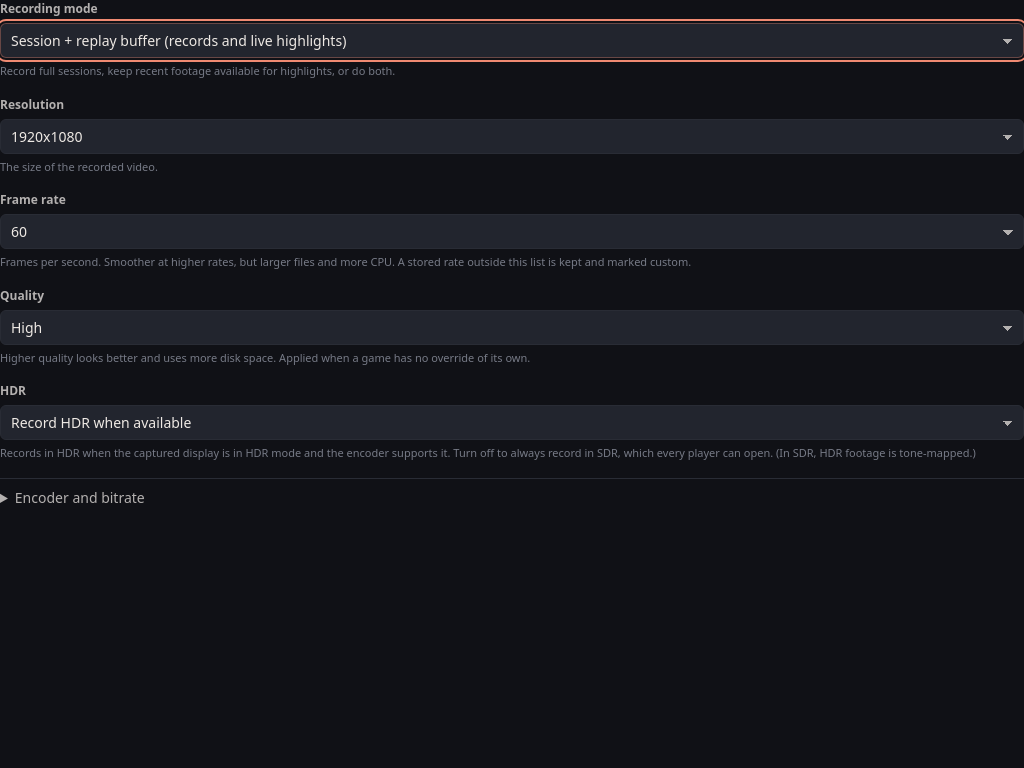
recording mode change › uses a modal focus trap, Escape cancellation, and non-submit action buttons
The width and height of the screenshot is (1024, 768).
Select "Session (one continuous recording)" in the dropdown labelled "Recording mode" at {"x": 512, "y": 40}, box x1=0 y1=23 x2=1023 y2=58
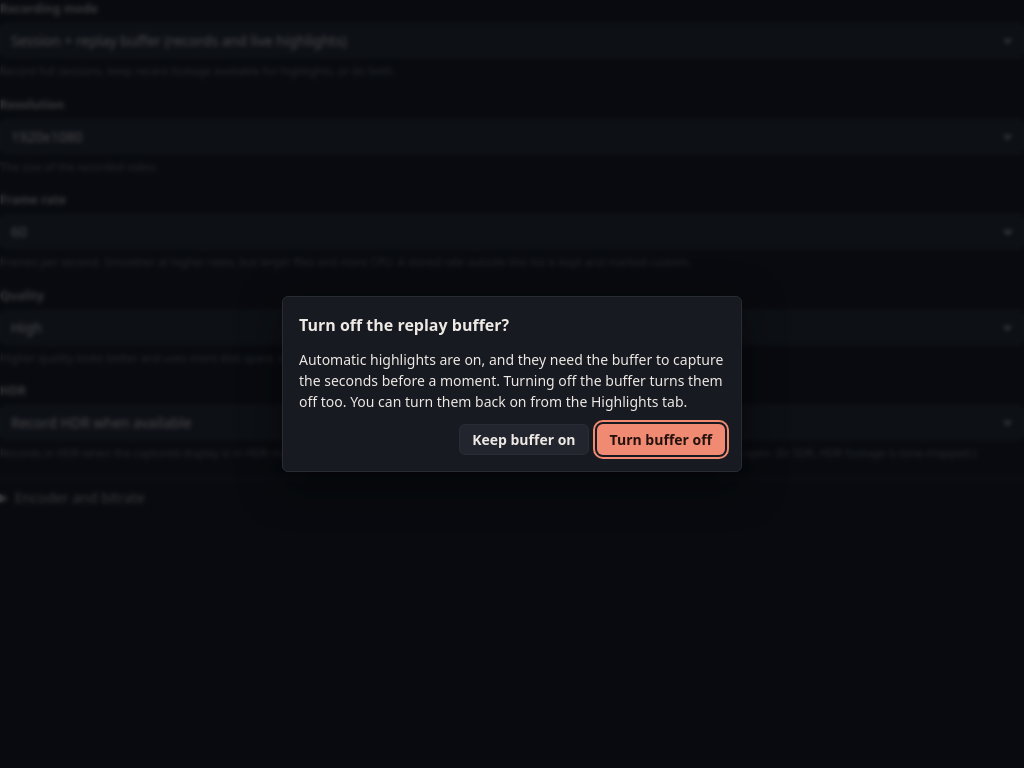
Press Tab
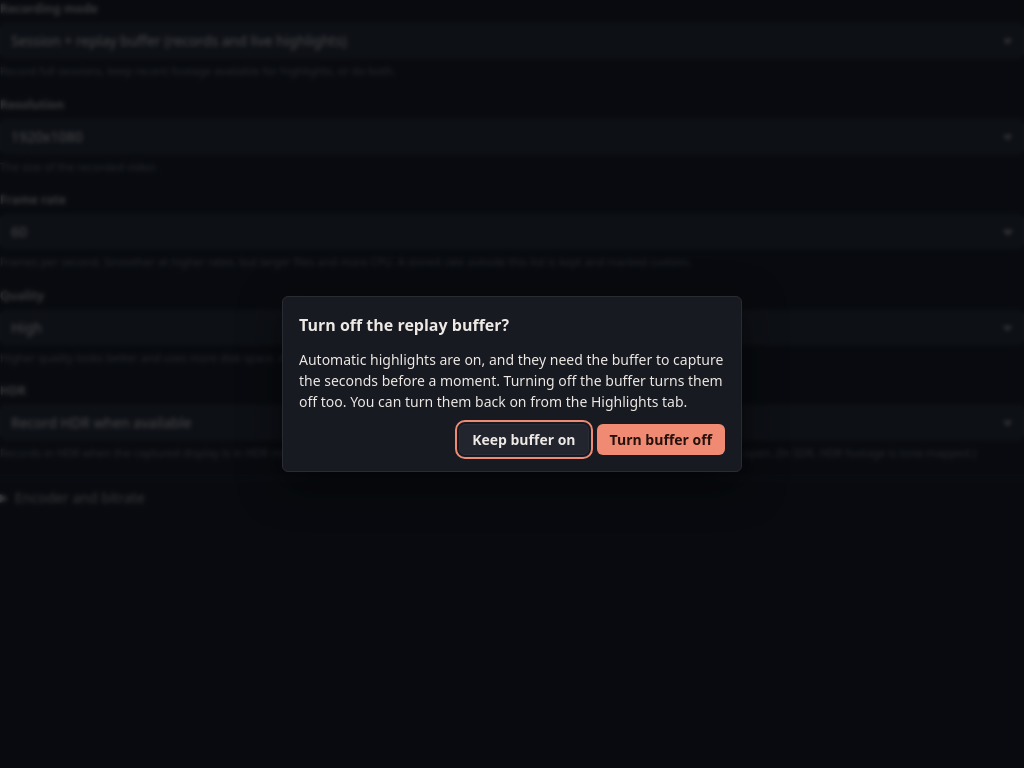
Press Escape
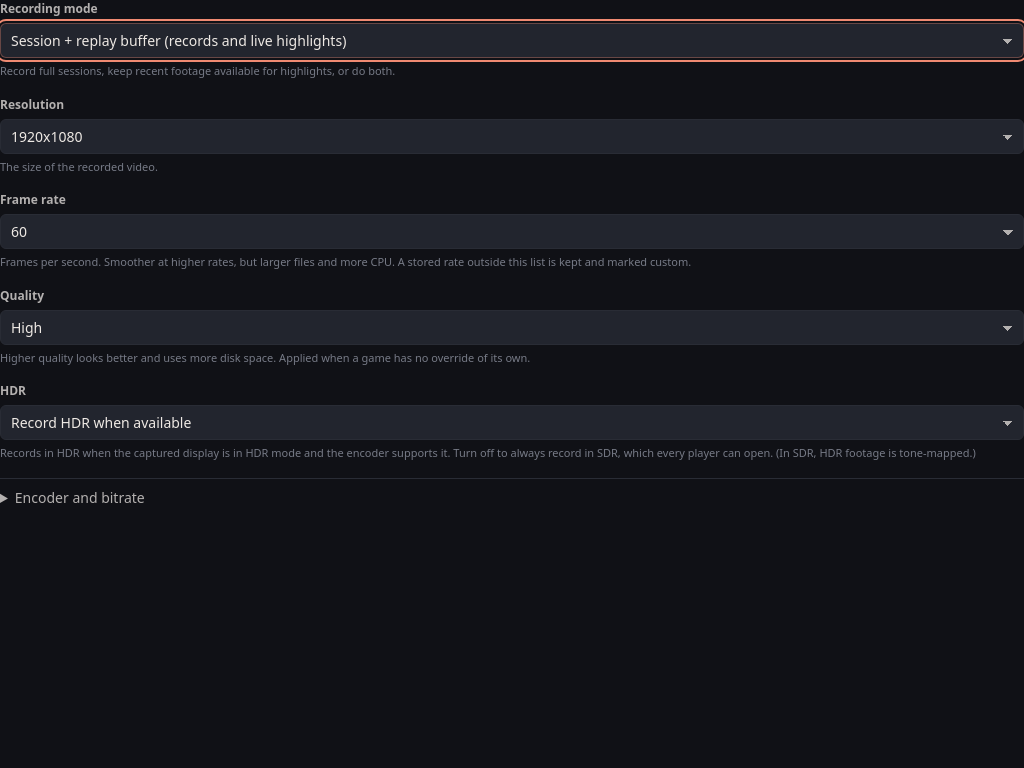
expect the dialog is gone: met
